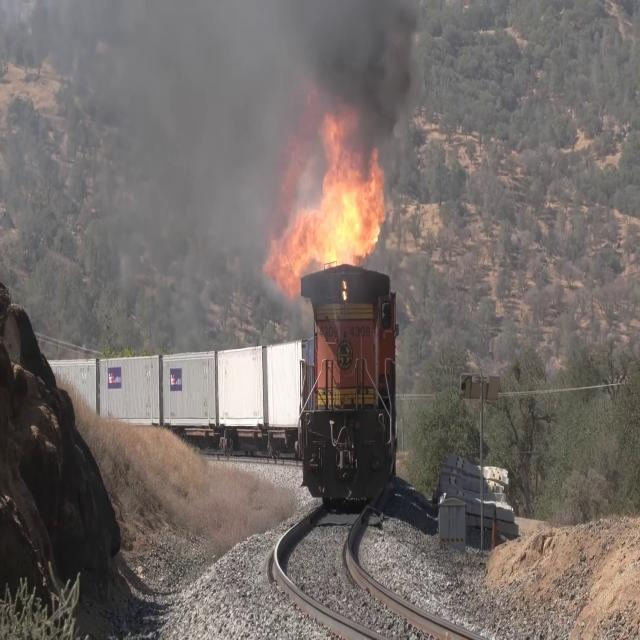Fire: (280, 150, 387, 292)
Smoke: (268, 0, 405, 128)
